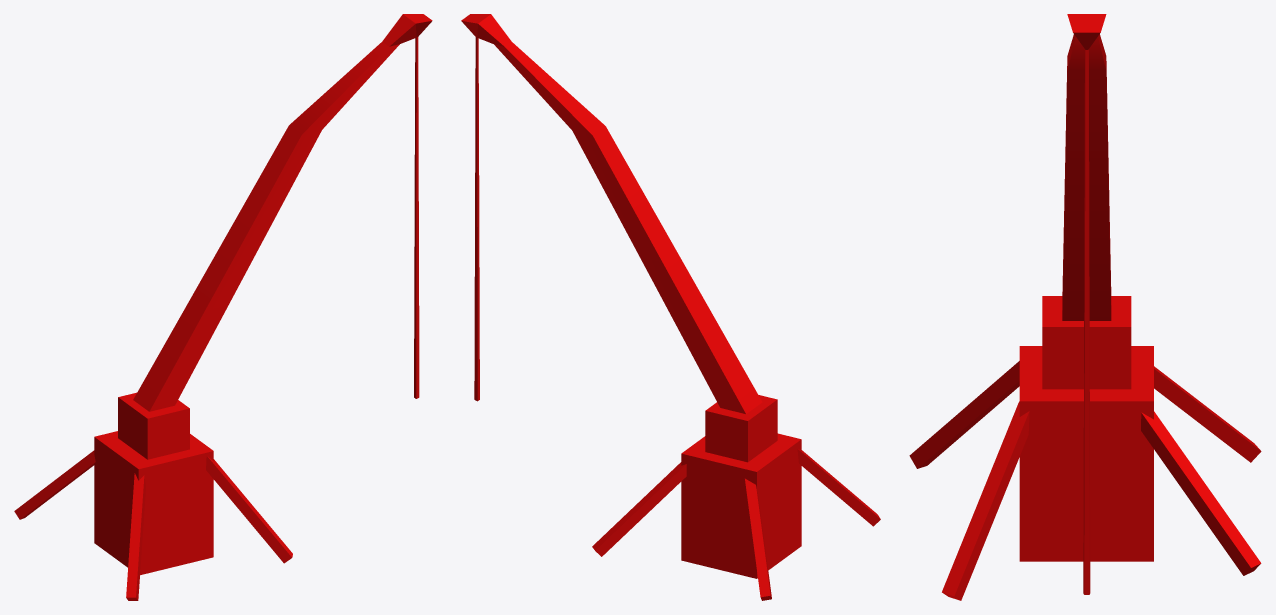
3 views of the same model, side by side, from view 1: azimuth 30°, elevation 25°; view 2: azimuth 150°, elevation 25°; view 3: azimuth 270°, elevation 25° (orthographic). The views are drawn at different scales.
Visible parts, largest first — view 1: polySurface1; view 2: polySurface1; view 3: polySurface1.
Boxes of the visible parts, left/top/right/bottom form: polySurface1: left=14, top=14, right=432, bottom=600; polySurface1: left=461, top=14, right=880, bottom=600; polySurface1: left=909, top=14, right=1261, bottom=600.
Bounding box in the file's own units: 52.11 × 65.23 × 29.36.
